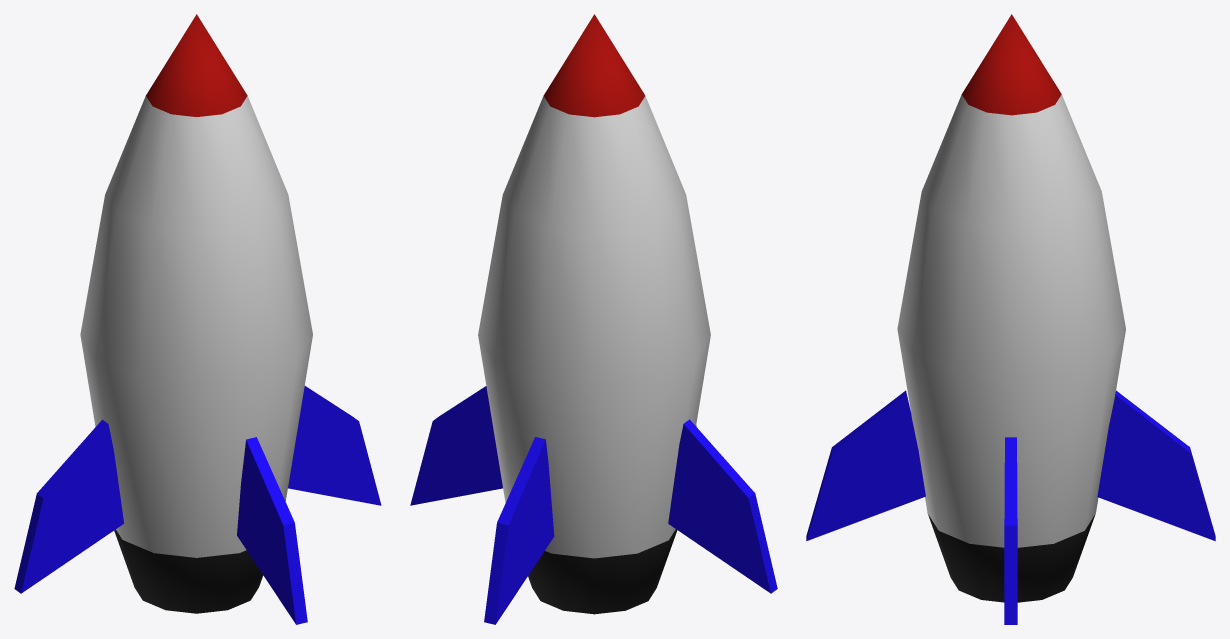
File: rocket.FBX
The picture shows the model from 3 angles, left to right: view 1: azimuth 30°, elevation 25°; view 2: azimuth 150°, elevation 25°; view 3: azimuth 270°, elevation 25°; orthographic projection.
Parts seen in each view (by area): view 1: Sphere01; view 2: Sphere01; view 3: Sphere01.
Boxes of the visible parts, x1,y1,x2,y2 form: Sphere01: (14,14,381,624); Sphere01: (410,14,777,624); Sphere01: (806,14,1215,624).
Bounding box in the file's own units: 133 × 203 × 133.
